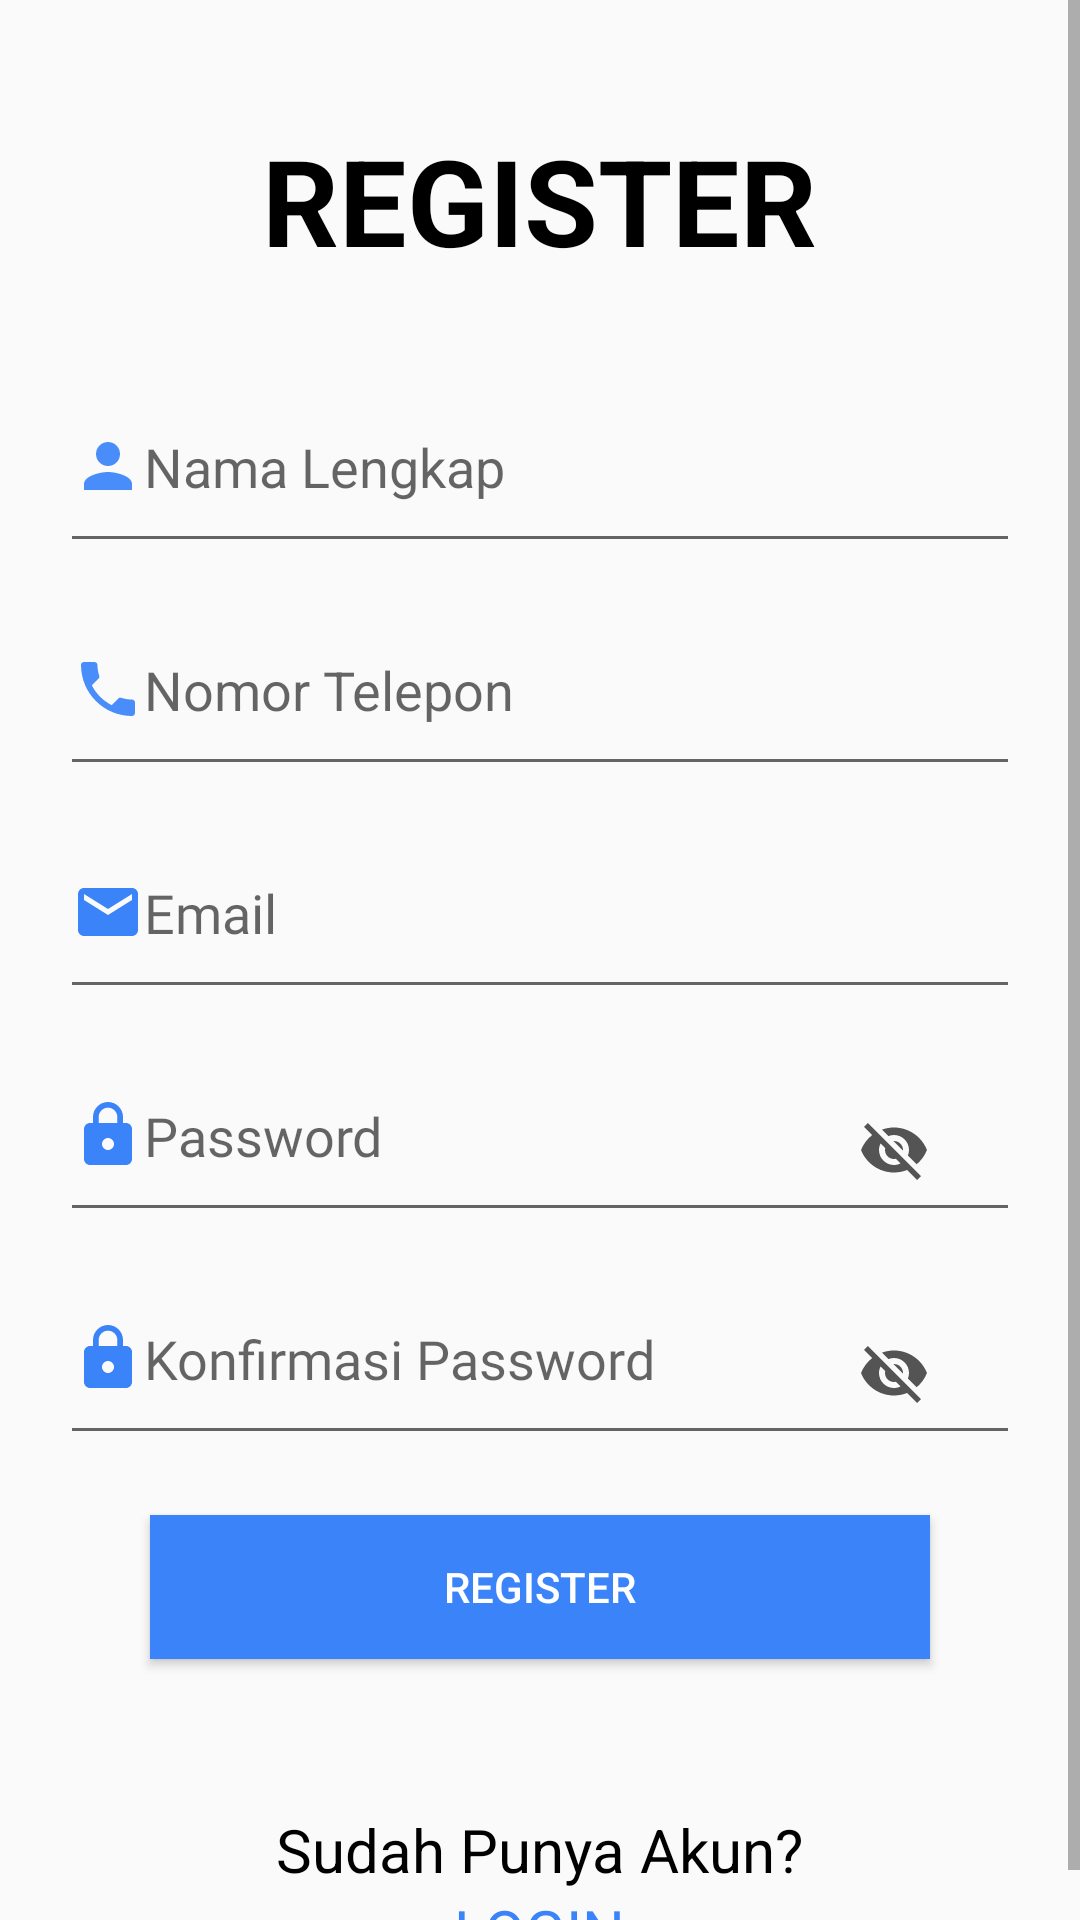

Named icons in this screenshot (1080px x 1920px) and their centers, point (x, y):
hide pass: point (894, 1151), point (894, 1374)
